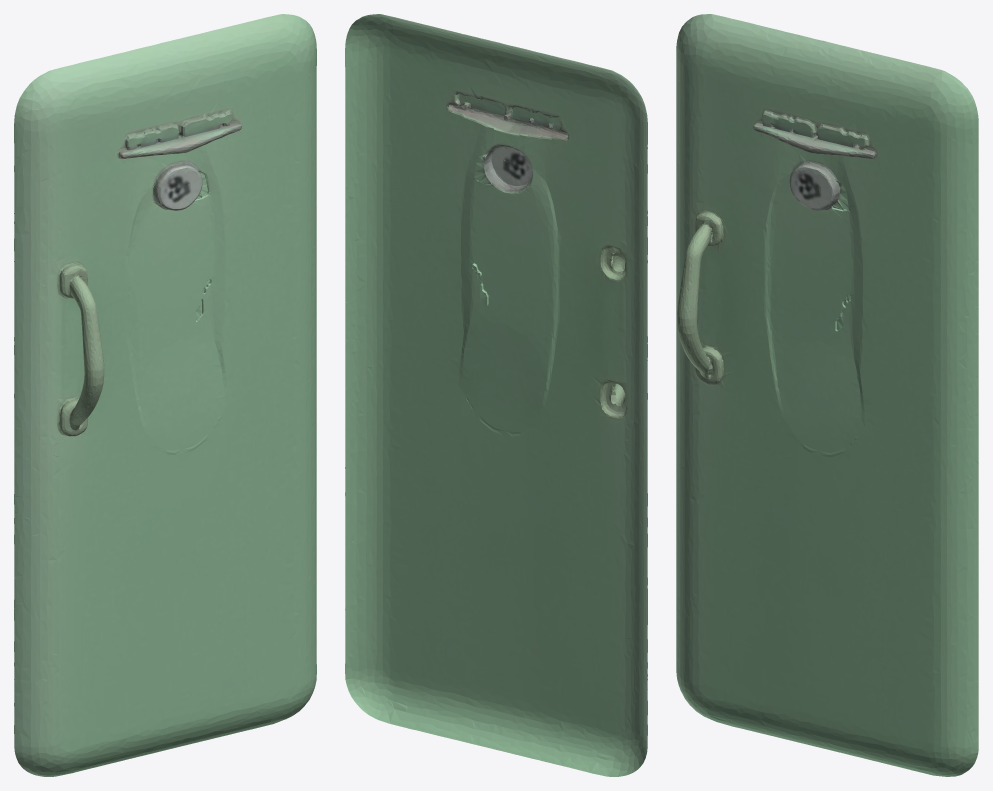
File: door_main.glb
The picture shows the model from 3 angles, left to right: view 1: azimuth 30°, elevation 25°; view 2: azimuth 150°, elevation 25°; view 3: azimuth 330°, elevation 25°; orthographic projection.
Parts seen in each view (by area): view 1: source_surface_0; view 2: source_surface_0; view 3: source_surface_0.
Boxes of the visible parts, box(x1,y1,x2,y2) form: source_surface_0: box(14, 14, 316, 776); source_surface_0: box(345, 14, 647, 776); source_surface_0: box(676, 14, 978, 776).
Size of the model in its own units: 0.6351 by 1.42 by 0.1433.
1 material, 1 textured.
